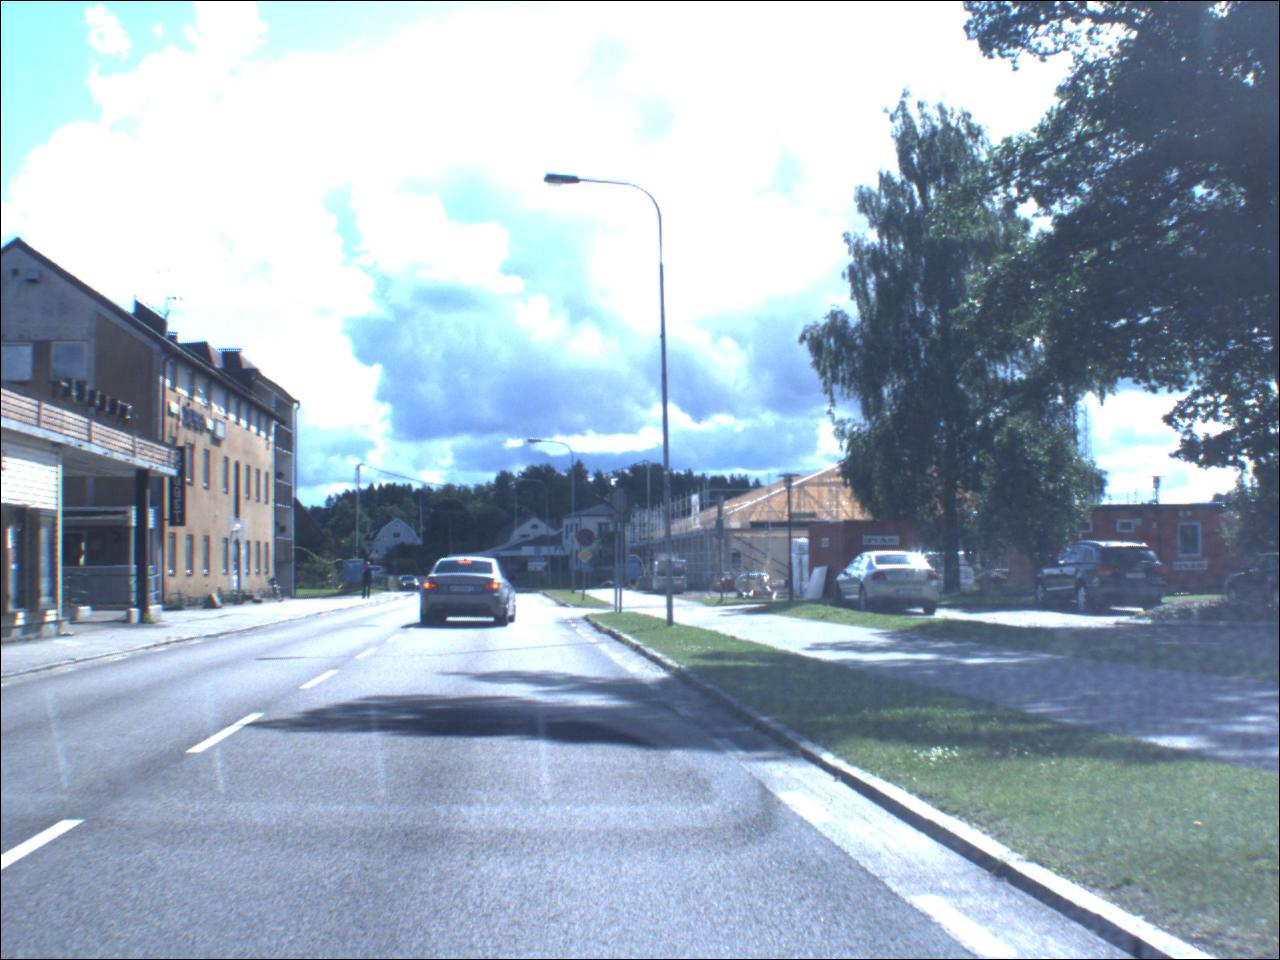NO_STOPPING_NO_STANDING: (578, 528, 599, 549)
PEDESTRIAN_CROSSING: (558, 547, 569, 558), (371, 550, 381, 561)
PRIORITY_ROAD: (579, 551, 595, 566)
